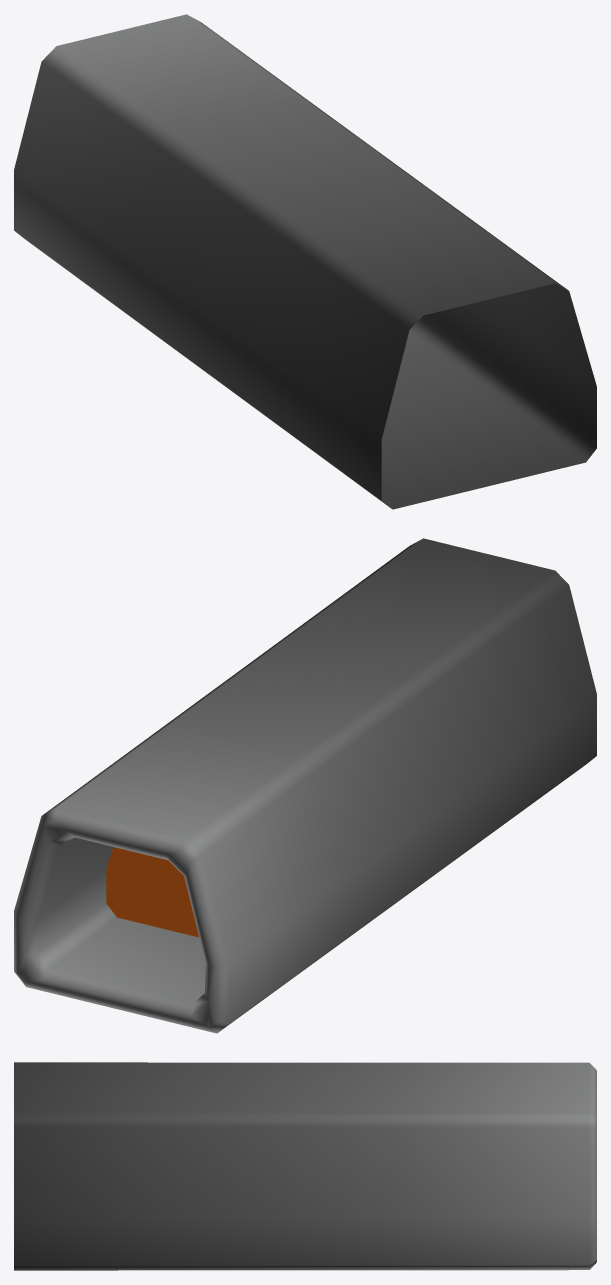
Rendered from Car_06_Pipe_Simple.fbx.
3 renders of one model, top to bottom at view 1: azimuth 30°, elevation 25°; view 2: azimuth 150°, elevation 25°; view 3: azimuth 270°, elevation 25°, orthographic. The views are drawn at different scales.
Visible parts, largest first — view 1: Car_06_Pipe_Simple; view 2: Car_06_Pipe_Simple; view 3: Car_06_Pipe_Simple.
Part boxes in pixels (x1=…): Car_06_Pipe_Simple: x1=14, y1=14, x2=596, y2=509; Car_06_Pipe_Simple: x1=14, y1=538, x2=596, y2=1033; Car_06_Pipe_Simple: x1=14, y1=1062, x2=596, y2=1270.
Bounding box in the file's own units: 32.03 × 96.03 × 26.54.
